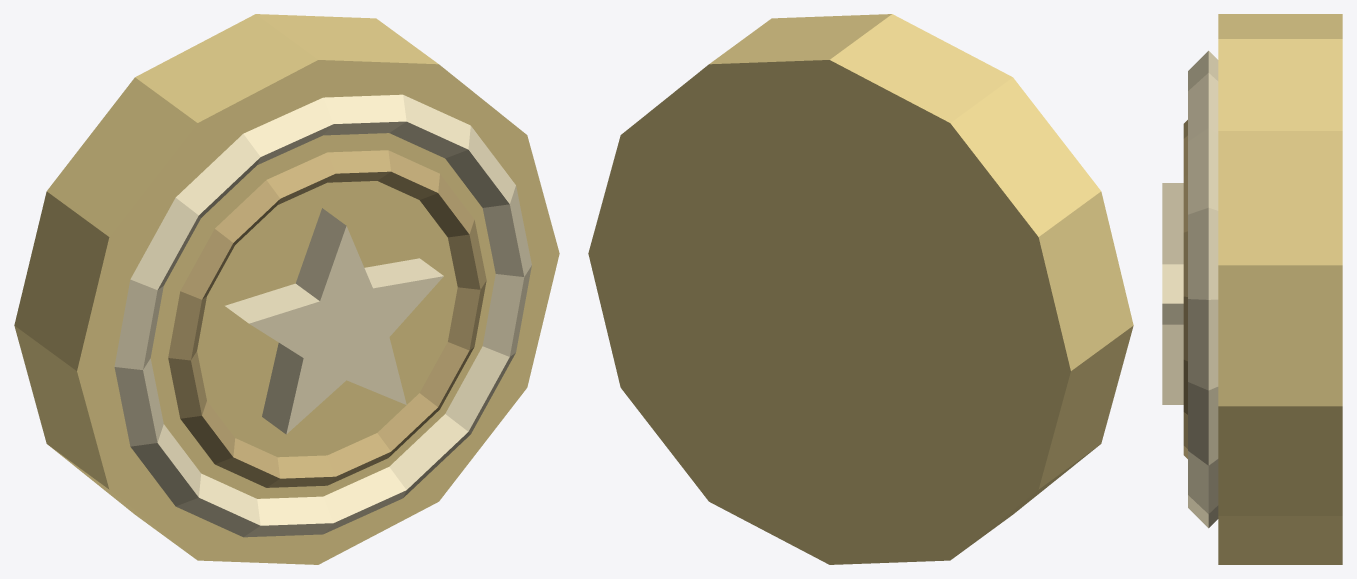
File: moneda_tesoro.glb
3 renders of one model, left to right at view 1: azimuth 30°, elevation 25°; view 2: azimuth 150°, elevation 25°; view 3: azimuth 270°, elevation 25°, orthographic.
Visible parts, largest first — view 1: moneda_tesoro; view 2: moneda_tesoro; view 3: moneda_tesoro.
Part boxes in pixels (x1,y1,x2,y2): moneda_tesoro: [14, 14, 559, 564]; moneda_tesoro: [588, 14, 1133, 564]; moneda_tesoro: [1162, 14, 1342, 564].
Size of the model in its own units: 0.4 by 0.4 by 0.1305.
